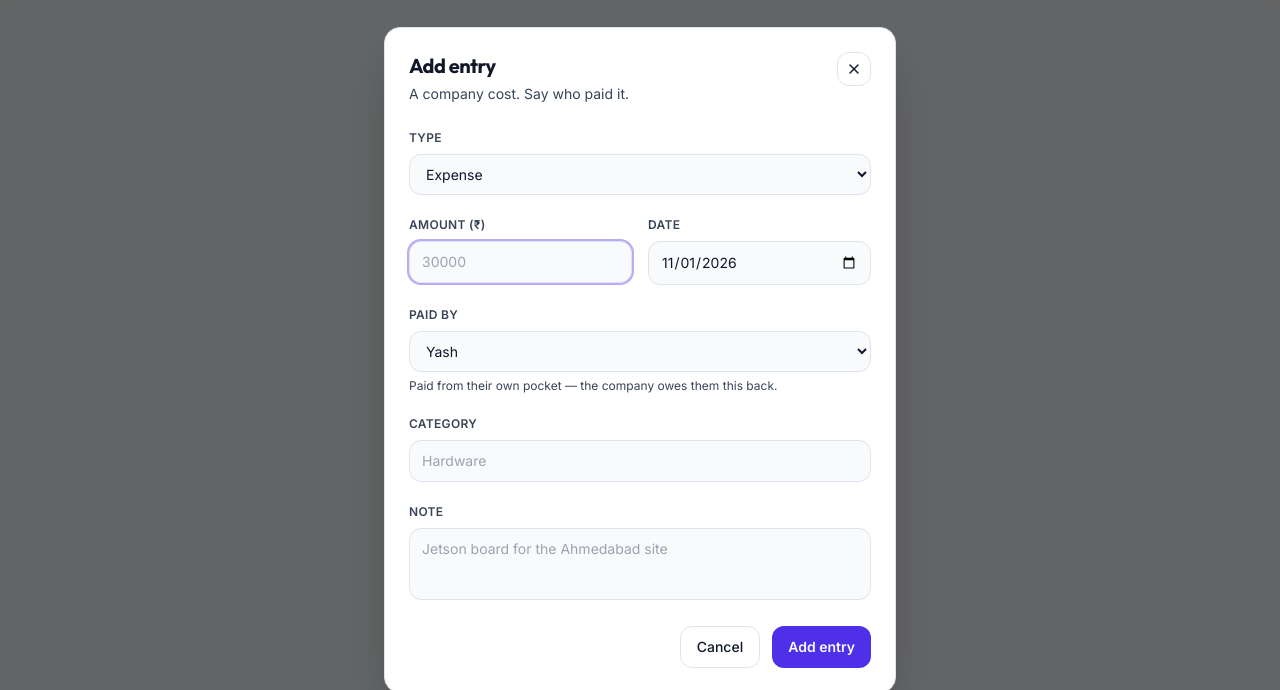
Test: FundEntryDialog › refuses an absurd amount, matching the database rule
Type "1000000001" into the field labelled "Amount (₹)" at (520,262), box left=409, top=241, right=632, bottom=283
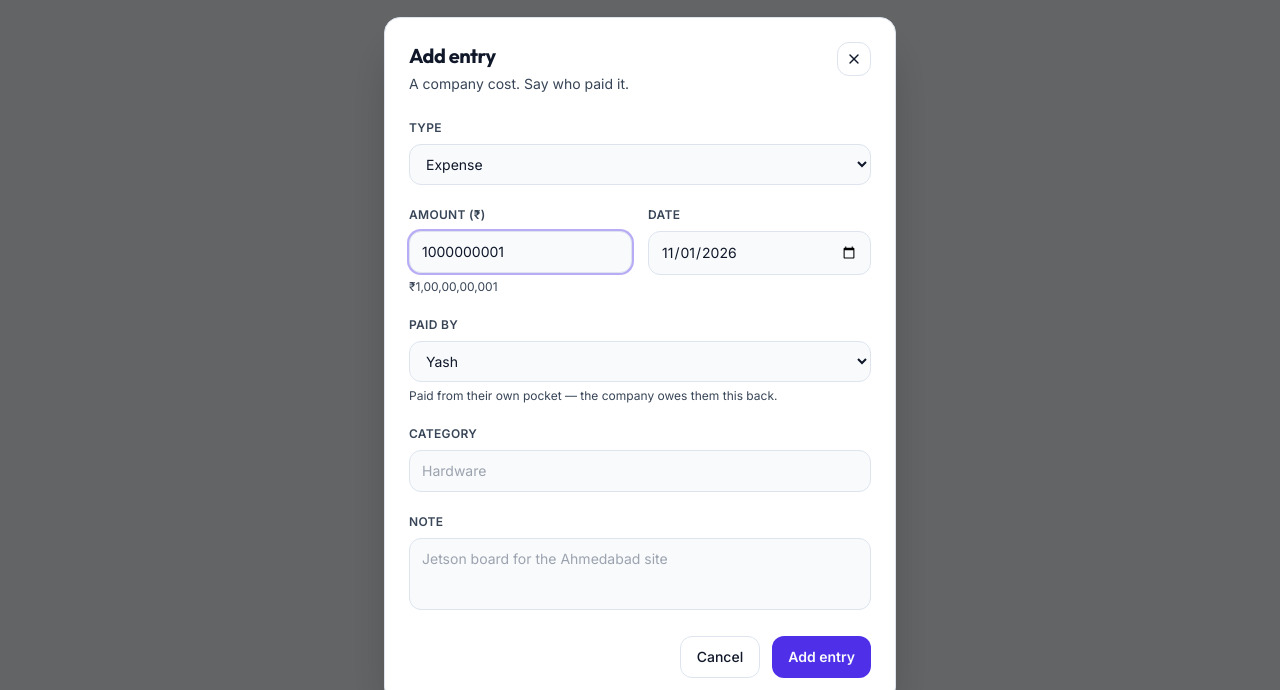
Click the button "Add entry" at (822,657), box left=772, top=636, right=871, bottom=678
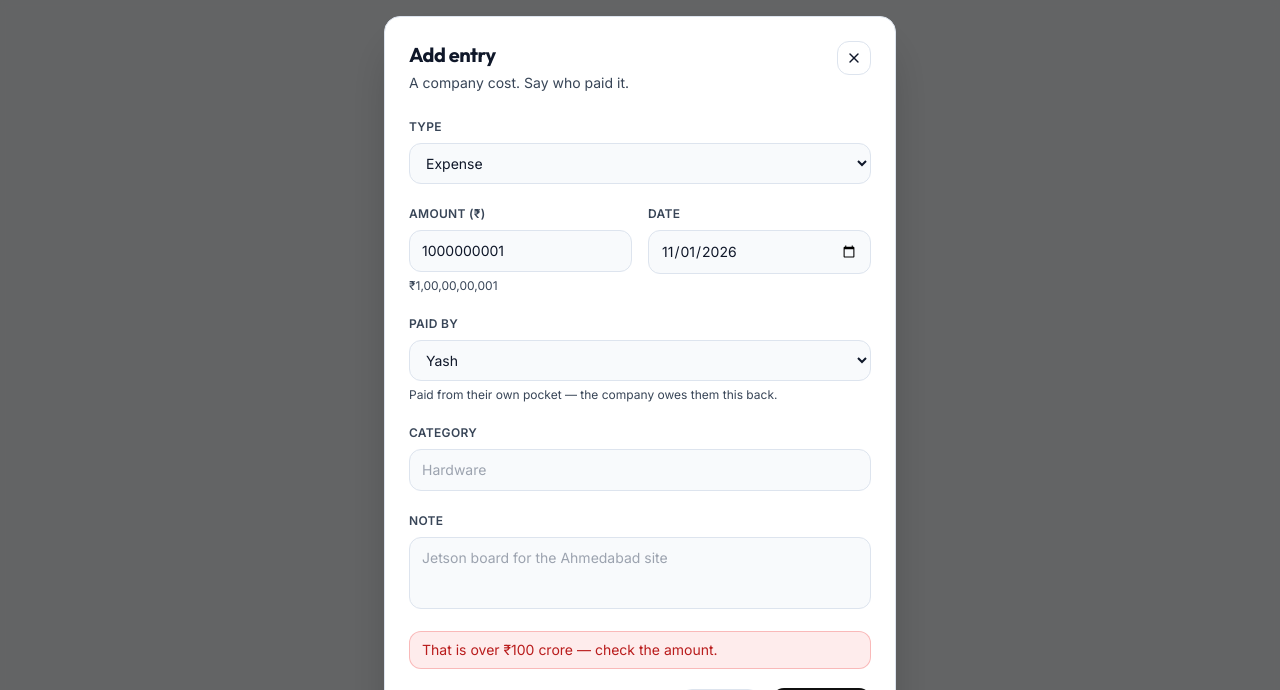
Expected: the text "That is over ₹100 crore — check the amount." is shown, left=409, top=631, right=871, bottom=669
